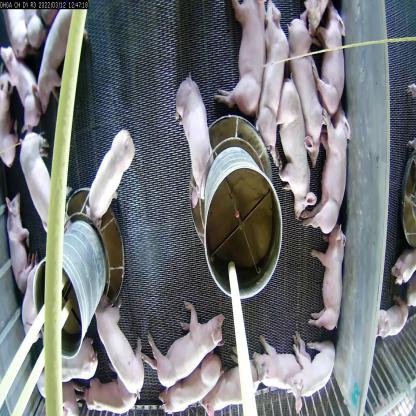Pig: (280, 1, 331, 160), (26, 4, 83, 114), (16, 130, 69, 244), (212, 0, 262, 118), (158, 304, 227, 387), (250, 5, 290, 145), (88, 126, 137, 236), (278, 64, 315, 205), (177, 76, 215, 210), (312, 112, 350, 231), (314, 229, 351, 342), (102, 304, 146, 390), (314, 13, 346, 119), (162, 353, 218, 413), (289, 338, 344, 398), (253, 342, 305, 400), (3, 44, 38, 127), (211, 370, 262, 415), (0, 195, 26, 277), (80, 374, 130, 414)
